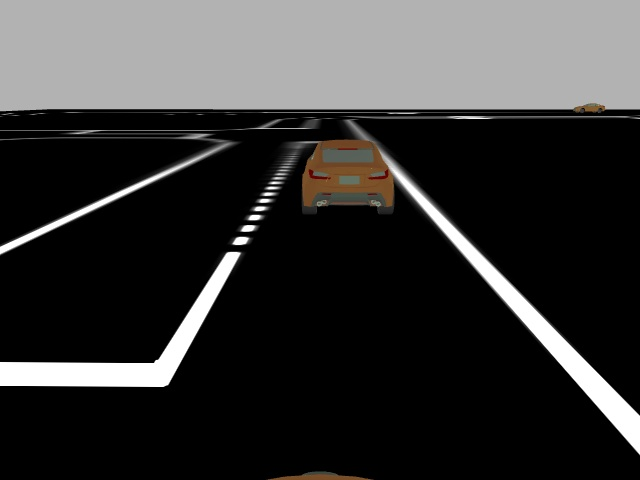obstacle_car: (298, 138, 398, 217)
